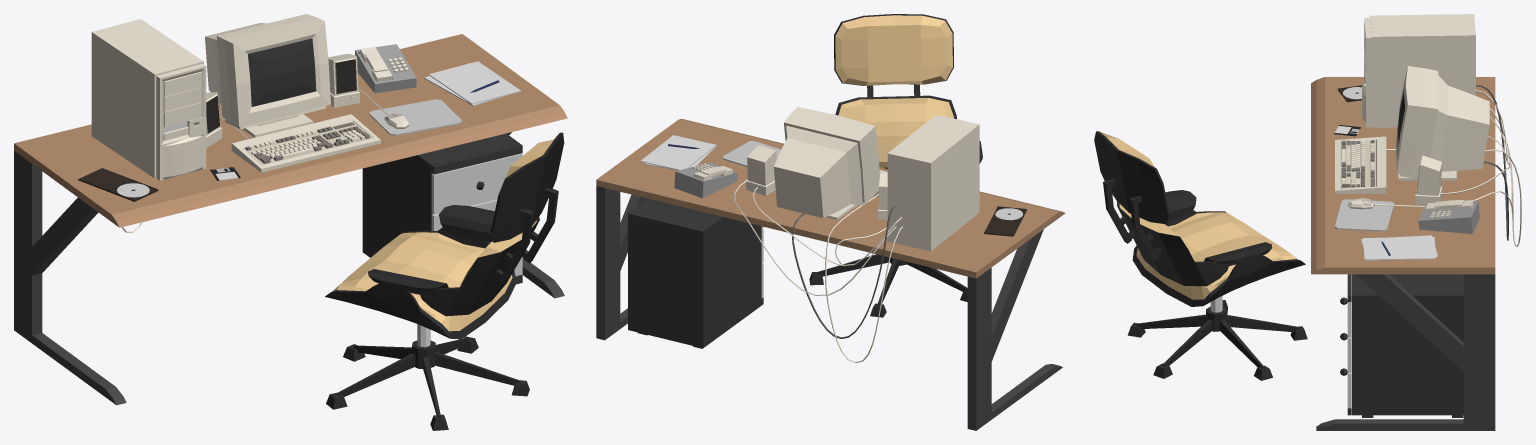
Rendered from desk.glb.
The picture shows the model from 3 angles, left to right: view 1: azimuth 30°, elevation 25°; view 2: azimuth 150°, elevation 25°; view 3: azimuth 270°, elevation 25°; orthographic projection. The views are drawn at different scales.
Parts seen in each view (by area): view 1: Office_desk, Cube.000, Computer_case, Computer_monitor.001, Drawers, Keyboard, Paper2, Mousepad, Phone_stand, SpeakerL, CD_case, SpeakerR (+1 smaller); view 2: Office_desk, Drawers, Cube.000, Computer_case, Computer_monitor.001, Paper2, SpeakerL, Phone_stand, CD_case, Monitor_cable, KeyboardCable, Mousepad (+2 smaller); view 3: Office_desk, Cube.000, Drawers, Computer_case, Computer_monitor.001, Keyboard, Paper2, Mousepad, Phone_stand, SpeakerL, Monitor_cable, KeyboardCable (+1 smaller).
Part boxes in pixels (box(x1,y1,x2,y2)): Office_desk: box(14, 34, 567, 405); Cube.000: box(325, 132, 564, 430); Computer_case: box(91, 19, 206, 180); Computer_monitor.001: box(205, 14, 330, 137); Drawers: box(362, 133, 522, 284); Keyboard: box(231, 114, 380, 172); Paper2: box(428, 61, 521, 104); Mousepad: box(369, 99, 462, 135); Phone_stand: box(355, 44, 416, 93); SpeakerL: box(328, 53, 359, 107); CD_case: box(78, 168, 158, 201); SpeakerR: box(206, 92, 222, 147); Office_desk: box(596, 119, 1065, 430); Drawers: box(628, 198, 763, 348); Cube.000: box(809, 14, 982, 317); Computer_case: box(887, 115, 979, 251); Computer_monitor.001: box(774, 107, 879, 220); Paper2: box(640, 135, 716, 170); SpeakerL: box(746, 145, 776, 195); Phone_stand: box(674, 162, 737, 198); CD_case: box(984, 206, 1026, 236); Monitor_cable: box(792, 206, 894, 338); KeyboardCable: box(825, 194, 902, 362); Mousepad: box(722, 141, 781, 166); Office_desk: box(1311, 77, 1495, 430); Cube.000: box(1094, 131, 1307, 380); Drawers: box(1340, 274, 1463, 417); Computer_case: box(1362, 14, 1475, 127); Computer_monitor.001: box(1395, 66, 1489, 180); Keyboard: box(1335, 136, 1386, 193); Paper2: box(1363, 237, 1435, 259); Mousepad: box(1334, 199, 1394, 231); Phone_stand: box(1418, 201, 1479, 233); SpeakerL: box(1415, 155, 1442, 205); Monitor_cable: box(1476, 84, 1508, 240); KeyboardCable: box(1386, 108, 1521, 246).
Bounding box in the file's own units: 188 × 116 × 178.
Materials: 2 (2 with a texture image).
